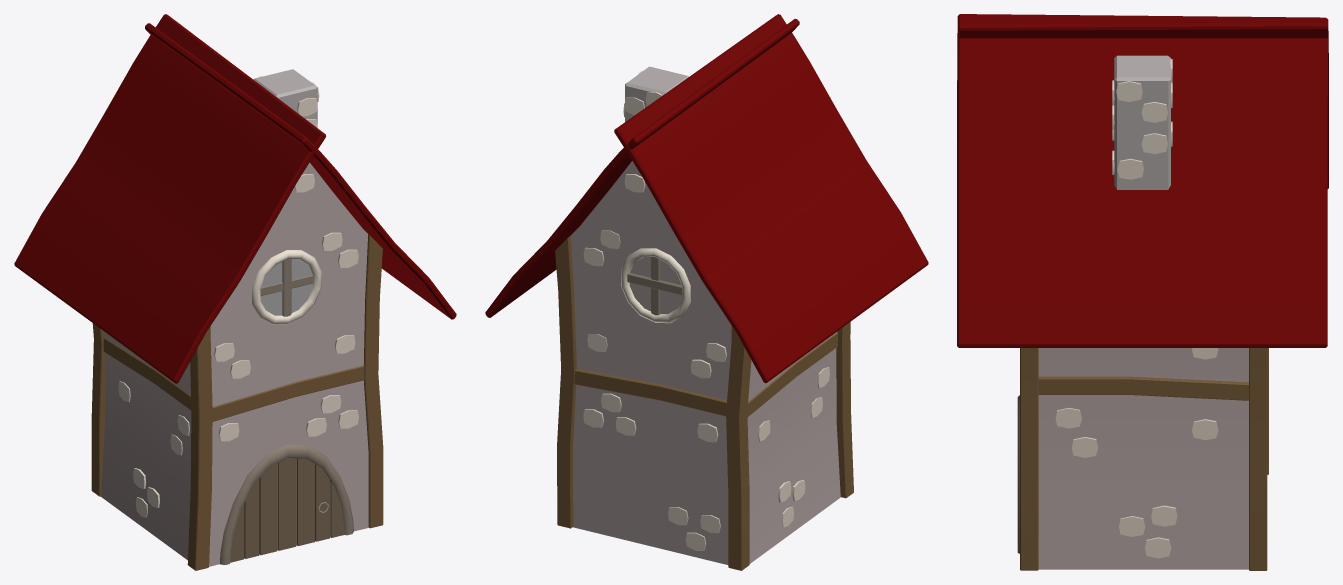
The model's file is feenhaus.fbx.
3 views of the same model, side by side, from view 1: azimuth 30°, elevation 25°; view 2: azimuth 150°, elevation 25°; view 3: azimuth 270°, elevation 25° (orthographic). The views are drawn at different scales.
Parts seen in each view (by area): view 1: steine_links_5; view 2: steine_links_5; view 3: steine_links_5.
Part boxes in pixels (x1,y1,x2,y2): steine_links_5: (14, 14, 456, 570); steine_links_5: (485, 14, 928, 570); steine_links_5: (957, 14, 1328, 570).
Size of the model in its own units: 355 by 522 by 351.
